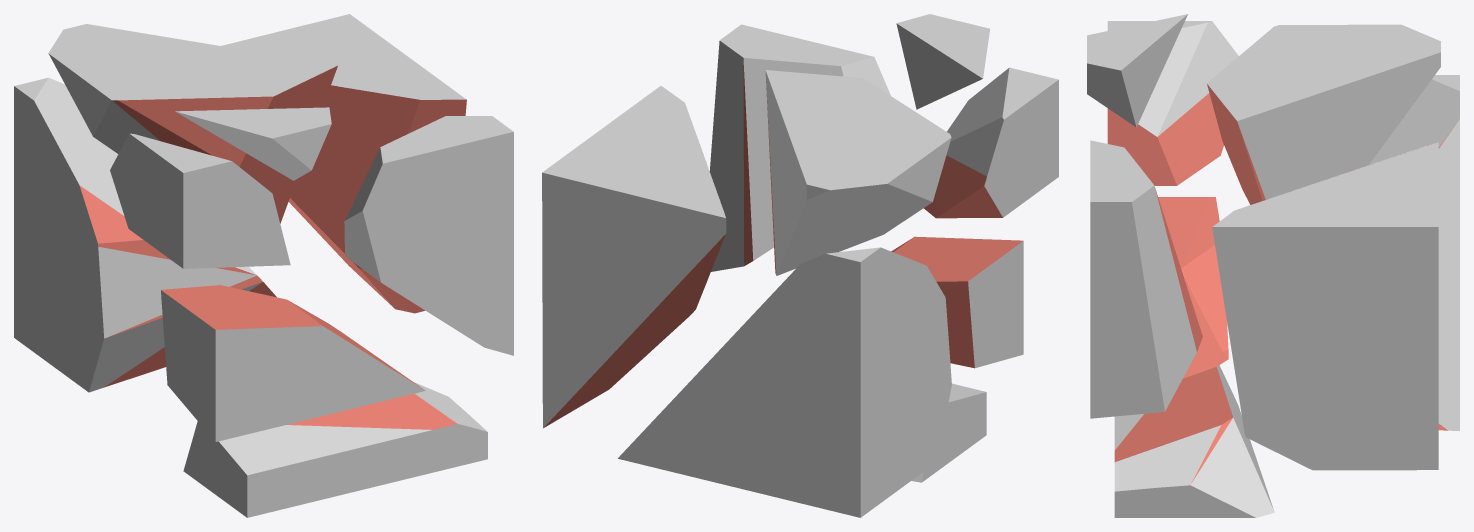
The model's file is BetterBrickFracture.fbx.
3 views of the same model, side by side, from view 1: azimuth 30°, elevation 25°; view 2: azimuth 150°, elevation 25°; view 3: azimuth 270°, elevation 25° (orthographic). The views are drawn at different scales.
Parts seen in each view (by area): view 1: Cube.009_cell.007, Cube.009_cell, Cube.009_cell.006, Cube.009_cell.004, Cube.009_cell.002, Cube.009_cell.001, Cube.009_cell.005, Cube.009_cell.003; view 2: Cube.009_cell.007, Cube.009_cell.001, Cube.009_cell.004, Cube.009_cell, Cube.009_cell.005, Cube.009_cell.006, Cube.009_cell.003, Cube.009_cell.002; view 3: Cube.009_cell.001, Cube.009_cell.004, Cube.009_cell, Cube.009_cell.002, Cube.009_cell.005, Cube.009_cell.007, Cube.009_cell.003, Cube.009_cell.006.
Boxes of the visible parts, x1,y1,x2,y2 form: Cube.009_cell.007: (14, 77, 276, 392); Cube.009_cell: (344, 116, 513, 355); Cube.009_cell.006: (161, 285, 425, 441); Cube.009_cell.004: (48, 24, 337, 223); Cube.009_cell.002: (183, 382, 487, 517); Cube.009_cell.001: (221, 14, 466, 313); Cube.009_cell.005: (110, 133, 290, 268); Cube.009_cell.003: (175, 107, 331, 180); Cube.009_cell.007: (618, 247, 951, 517); Cube.009_cell.001: (542, 86, 726, 428); Cube.009_cell.004: (765, 70, 951, 275); Cube.009_cell: (709, 24, 890, 271); Cube.009_cell.005: (923, 67, 1058, 218); Cube.009_cell.006: (891, 236, 1023, 368); Cube.009_cell.003: (896, 14, 989, 109); Cube.009_cell.002: (911, 383, 986, 482); Cube.009_cell.001: (1212, 142, 1438, 470); Cube.009_cell.004: (1207, 24, 1440, 204); Cube.009_cell: (1090, 140, 1202, 418); Cube.009_cell.002: (1114, 365, 1274, 517); Cube.009_cell.005: (1107, 21, 1238, 185); Cube.009_cell.007: (1369, 75, 1459, 430); Cube.009_cell.003: (1087, 14, 1187, 127); Cube.009_cell.006: (1158, 197, 1228, 378).
Bounding box in the file's own units: 84.11 × 92.18 × 83.23.
